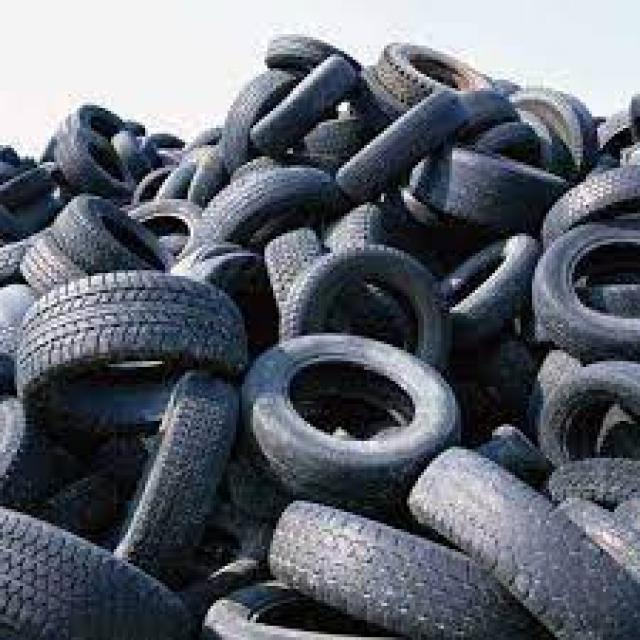Rubber -Non-Biodegradable but Recyclable-: (0, 28, 640, 640)
